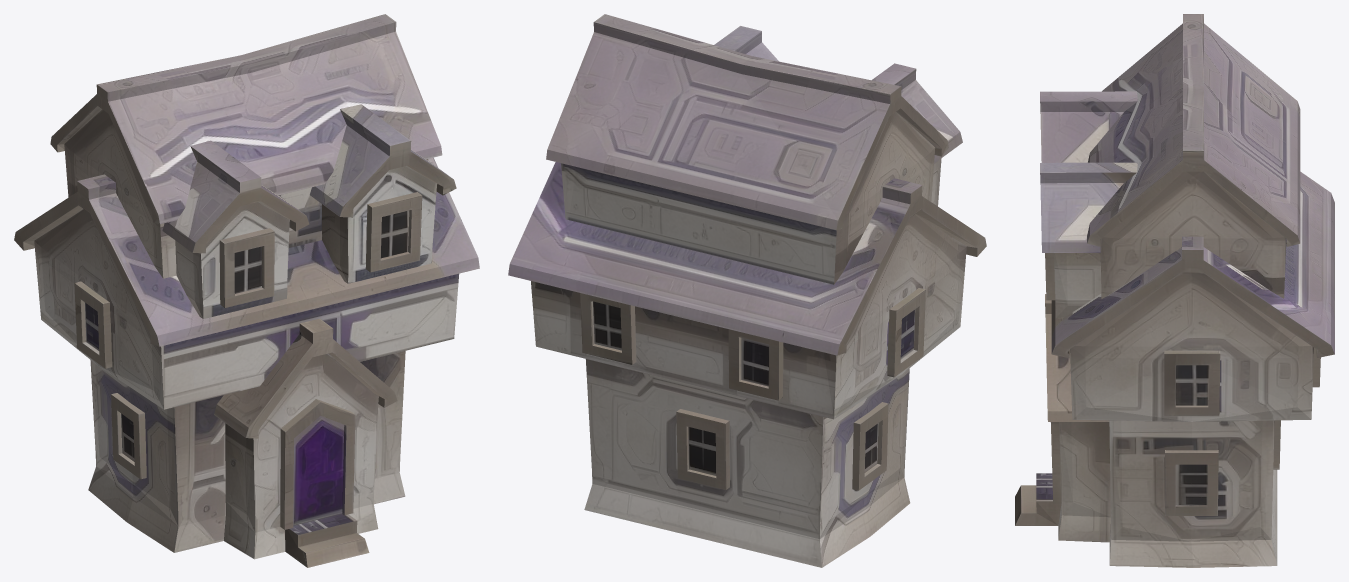
The model's file is textured_paint3d.glb.
3 views of the same model, side by side, from view 1: azimuth 30°, elevation 25°; view 2: azimuth 150°, elevation 25°; view 3: azimuth 270°, elevation 25° (orthographic). The views are drawn at different scales.
Visible parts, largest first — view 1: Node-Mesh; view 2: Node-Mesh; view 3: Node-Mesh.
Boxes of the visible parts, x1,y1,x2,y2 form: Node-Mesh: [14, 14, 479, 567]; Node-Mesh: [508, 14, 986, 567]; Node-Mesh: [1015, 14, 1334, 567].
Bounding box in the file's own units: 1.56 × 2 × 1.35.
1 material, 1 textured.
